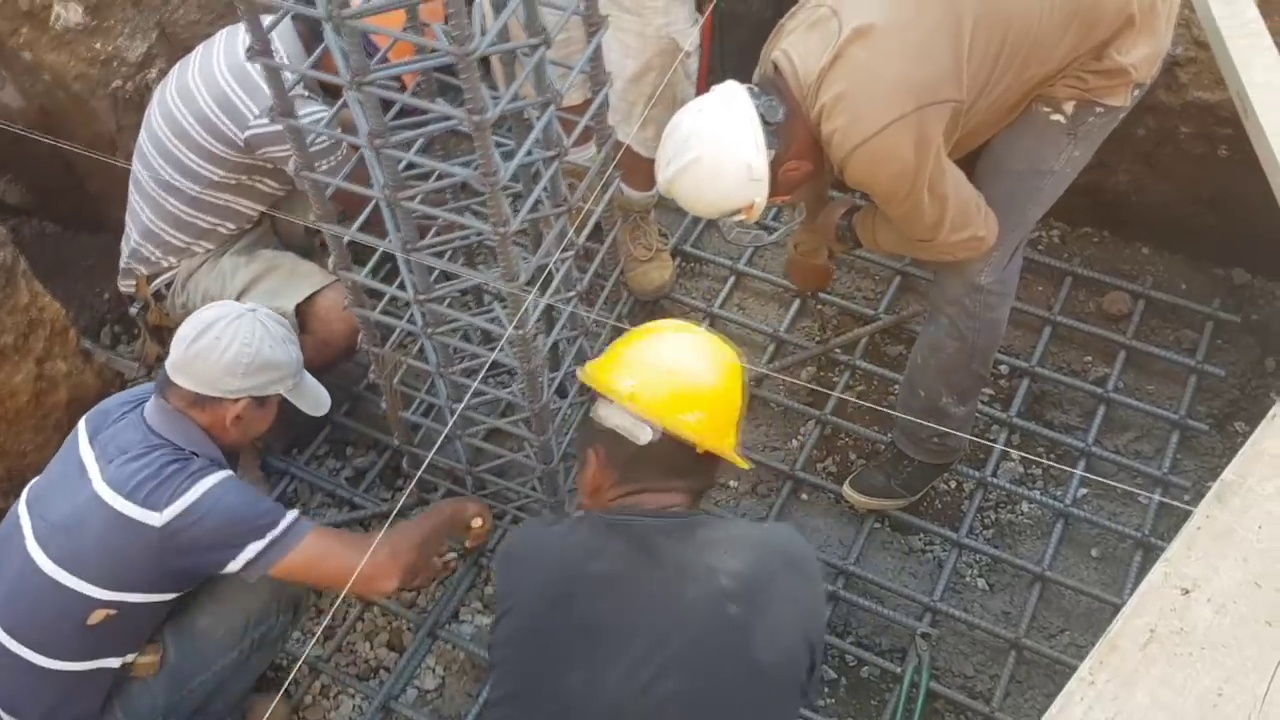helmet: (571, 314, 758, 470), (657, 73, 770, 229), (344, 0, 447, 94)
helmet-off: (151, 292, 328, 469)
helmet-on: (569, 312, 754, 523), (660, 40, 830, 234), (283, 2, 447, 105)
person: (656, 0, 1189, 515), (2, 285, 495, 717), (121, 0, 482, 376), (483, 312, 822, 711), (504, 2, 703, 293)
